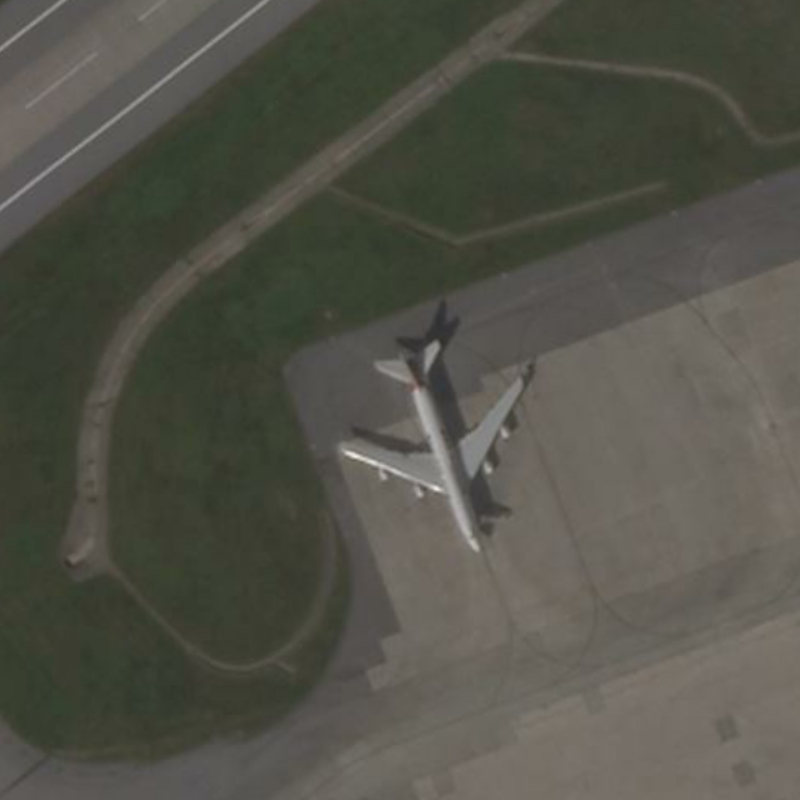A11: (333, 332, 534, 556)
